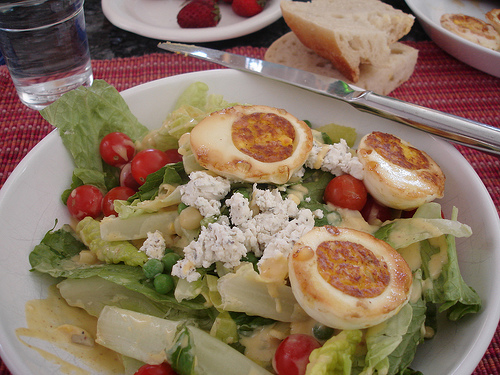egg: (288, 225, 411, 331), (188, 101, 315, 183), (357, 128, 447, 213), (440, 11, 499, 52)
